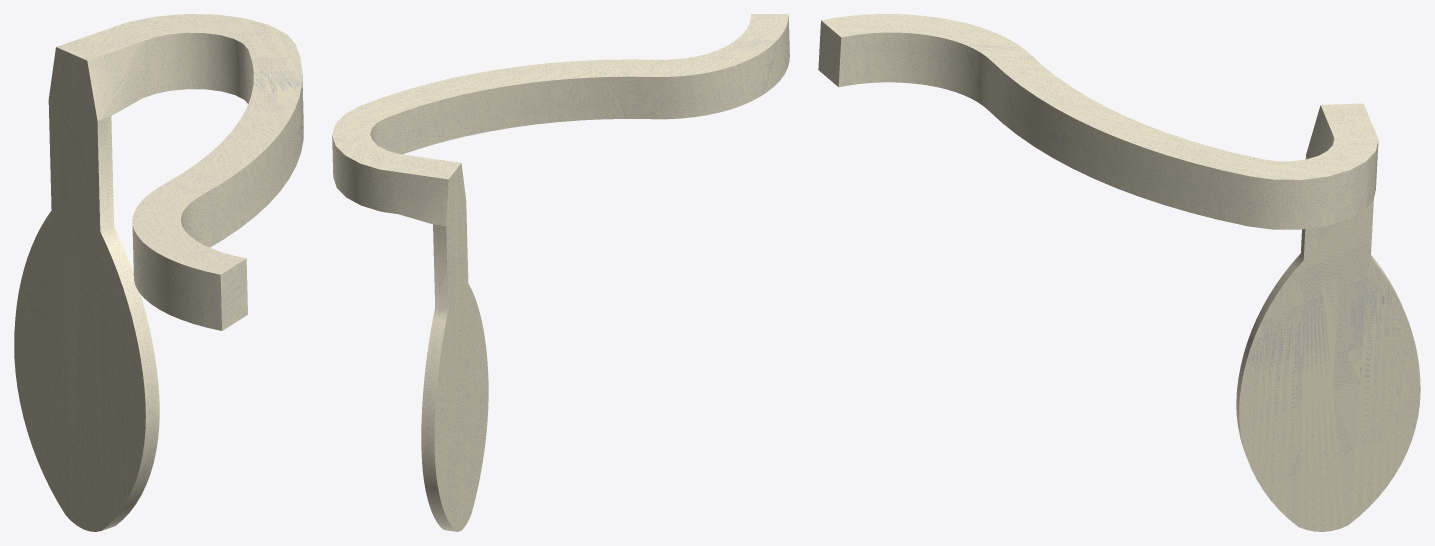
The model's file is original-18.obj.
The picture shows the model from 3 angles, left to right: view 1: azimuth 30°, elevation 25°; view 2: azimuth 150°, elevation 25°; view 3: azimuth 270°, elevation 25°; orthographic projection. The views are drawn at different scales.
Visible parts, largest first — view 1: Group_4_1/Group_4/mesh39/mesh39-geometry#mesh39-geometry; view 2: Group_4_1/Group_4/mesh39/mesh39-geometry#mesh39-geometry; view 3: Group_4_1/Group_4/mesh39/mesh39-geometry#mesh39-geometry.
Part boxes in pixels (bbox=[...]): Group_4_1/Group_4/mesh39/mesh39-geometry#mesh39-geometry: bbox=[14, 14, 303, 531]; Group_4_1/Group_4/mesh39/mesh39-geometry#mesh39-geometry: bbox=[332, 14, 789, 531]; Group_4_1/Group_4/mesh39/mesh39-geometry#mesh39-geometry: bbox=[818, 14, 1420, 531].
Bounding box in the file's own units: 0.0213 × 0.0295 × 0.0363.
